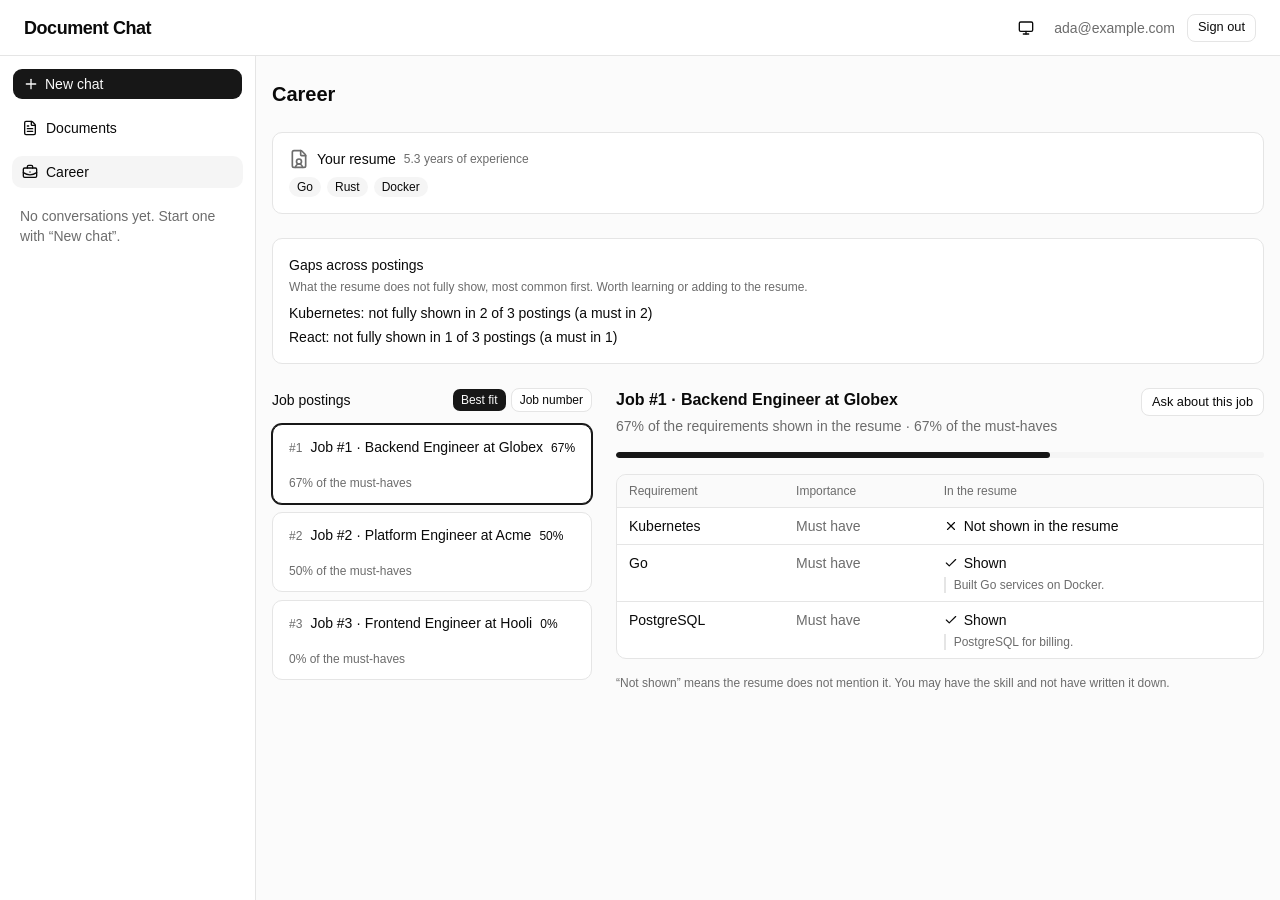
Scenario: the Career page › asking about a posting › starts a chat limited to the resume and that posting, with the question asked
Step 1. Click the button "Job #2" → (421, 535), box left=272, top=512, right=592, bottom=592
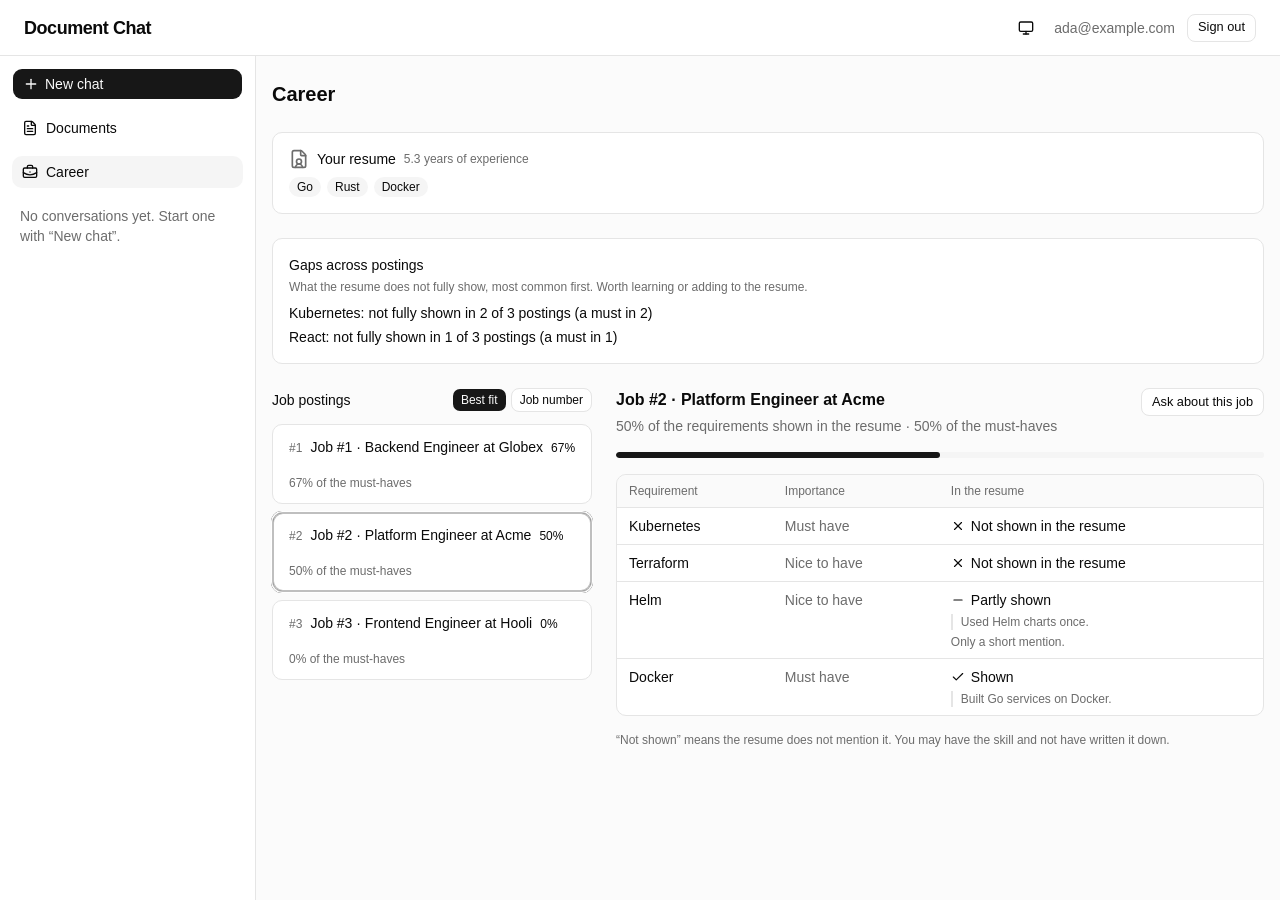
Step 2. Click the button "Ask about this job" → (1202, 402), box left=1141, top=388, right=1264, bottom=416
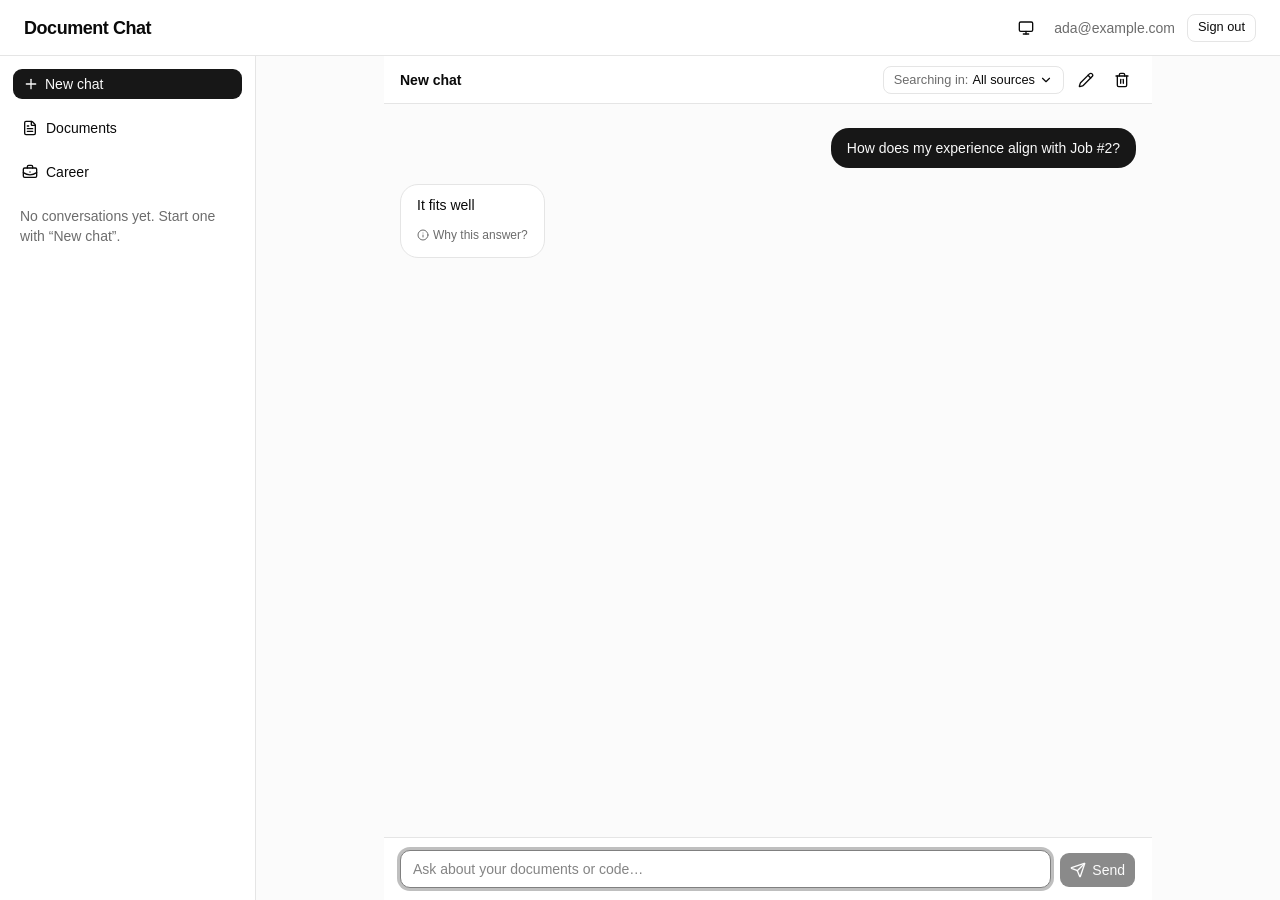
expect the text "It fits well" is shown: met, box left=417, top=197, right=475, bottom=213
